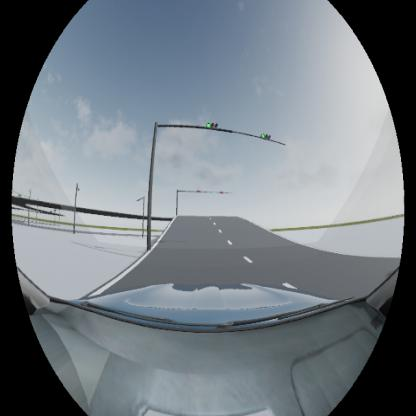Green Light: (205, 122, 219, 130), (261, 133, 271, 140)
